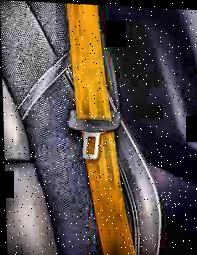seatbelt: (59, 4, 144, 255)
